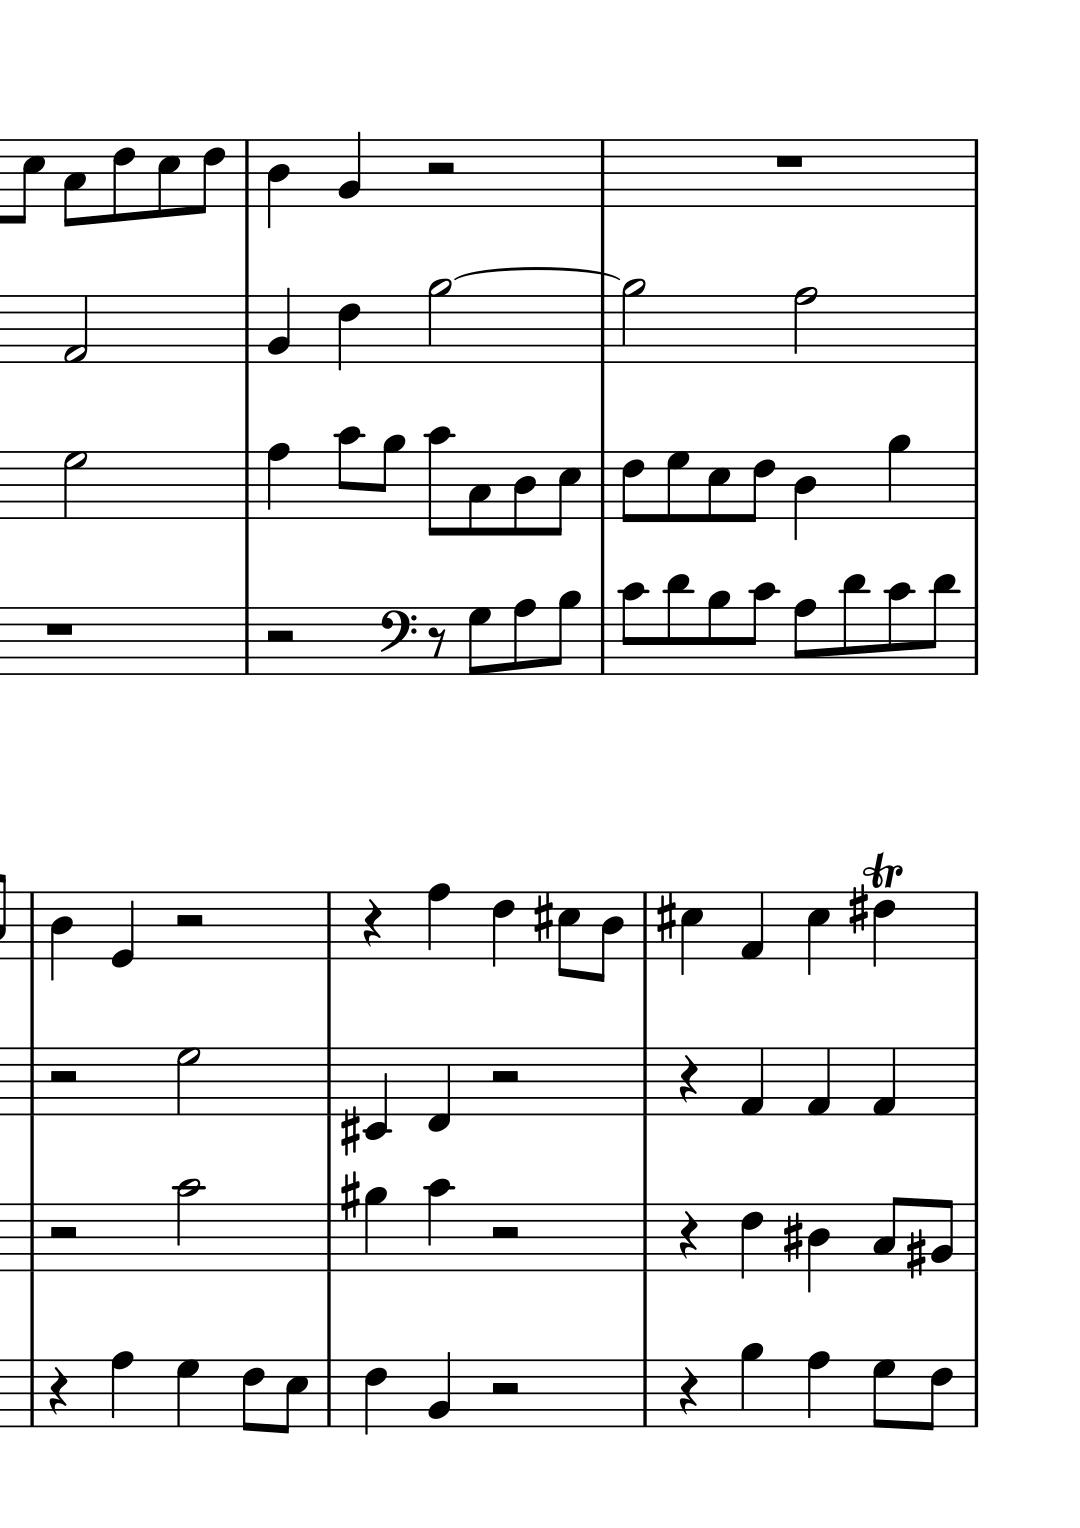2_1: (62, 293, 89, 366)
2_10: (174, 1176, 205, 1273)
2_7: (60, 448, 89, 521), (173, 1045, 200, 1119)
2_8: (791, 284, 818, 365)
2_9: (619, 277, 648, 365), (425, 278, 452, 366)
4_-1: (425, 1045, 451, 1134)
4_-2: (362, 1045, 389, 1140)
4_0: (110, 890, 136, 969)
4_1: (804, 1045, 832, 1118), (738, 1046, 766, 1118), (870, 1045, 896, 1118), (739, 890, 764, 961)
4_10: (424, 1177, 451, 1275)
4_2: (335, 129, 362, 209), (425, 1350, 452, 1429), (265, 286, 292, 364)
4_4: (265, 138, 290, 230), (48, 889, 72, 981), (806, 1202, 831, 1294), (792, 451, 817, 541)
4_5: (805, 889, 830, 979), (678, 891, 702, 979)
4_6: (335, 293, 361, 373), (489, 890, 514, 969), (738, 1202, 763, 1281), (870, 891, 895, 969), (362, 1357, 388, 1436)
4_7: (173, 1358, 200, 1427)
4_8: (108, 1350, 134, 1429), (264, 441, 290, 521), (805, 1350, 831, 1429), (425, 881, 449, 962)
4_9: (739, 1341, 764, 1429), (886, 433, 911, 520), (362, 1185, 387, 1273)
8_10: (425, 426, 454, 539), (745, 580, 777, 677), (618, 581, 648, 677), (334, 424, 362, 520), (885, 580, 912, 677)
8_11: (925, 572, 957, 677), (663, 572, 691, 678), (840, 571, 868, 677)
8_2: (929, 1197, 954, 1273)
8_3: (872, 1195, 904, 1273), (61, 137, 86, 230), (465, 450, 491, 538)
8_4: (591, 890, 623, 984), (510, 450, 536, 538)
8_5: (547, 449, 581, 537), (12, 137, 44, 226), (276, 1357, 309, 1434), (556, 889, 580, 979), (155, 136, 180, 219), (705, 450, 731, 524)
8_6: (193, 137, 226, 216), (921, 1358, 953, 1433), (109, 137, 134, 224), (745, 450, 775, 524), (619, 449, 646, 525), (240, 1357, 265, 1434)
8_7: (664, 450, 690, 523), (466, 604, 492, 677), (870, 1358, 895, 1430)
8_8: (510, 599, 536, 677), (792, 599, 817, 677)
8_9: (548, 590, 581, 677), (374, 434, 404, 523), (705, 590, 731, 677)
Fclef: (378, 604, 416, 677)
Rests1: (41, 618, 76, 638), (771, 151, 806, 170)
Rests2: (43, 1066, 82, 1088), (261, 625, 298, 647), (44, 1223, 82, 1244), (422, 159, 458, 180), (486, 1067, 522, 1088), (169, 911, 207, 931), (487, 1223, 522, 1243), (487, 1380, 522, 1398)
Rests4: (359, 898, 383, 950), (676, 1209, 699, 1261), (676, 1365, 699, 1418), (46, 1365, 68, 1418), (677, 1053, 699, 1105)
Rests8: (425, 625, 446, 661)
Sharp: (531, 890, 554, 943), (337, 1170, 360, 1223), (337, 1106, 359, 1157), (847, 883, 868, 936), (905, 1228, 926, 1281), (655, 891, 676, 943), (782, 1211, 802, 1264)
Single_barline: (591, 140, 612, 207), (237, 451, 257, 519), (594, 296, 614, 362), (236, 608, 256, 675), (21, 1048, 41, 1114), (21, 1203, 41, 1270), (635, 1360, 655, 1426), (594, 450, 612, 520), (635, 1204, 655, 1270), (965, 451, 984, 519), (965, 296, 984, 362), (636, 892, 655, 959), (636, 1048, 655, 1114), (22, 1358, 40, 1427), (967, 1358, 984, 1427), (594, 607, 611, 675), (319, 1358, 337, 1426), (967, 140, 984, 207), (237, 296, 255, 362), (319, 1048, 337, 1114), (320, 892, 338, 957), (967, 892, 984, 957), (967, 1203, 983, 1272), (238, 140, 255, 208), (23, 892, 40, 959), (967, 1049, 983, 1115), (320, 1204, 337, 1270), (968, 608, 983, 675)
Slur: (454, 267, 619, 281)
